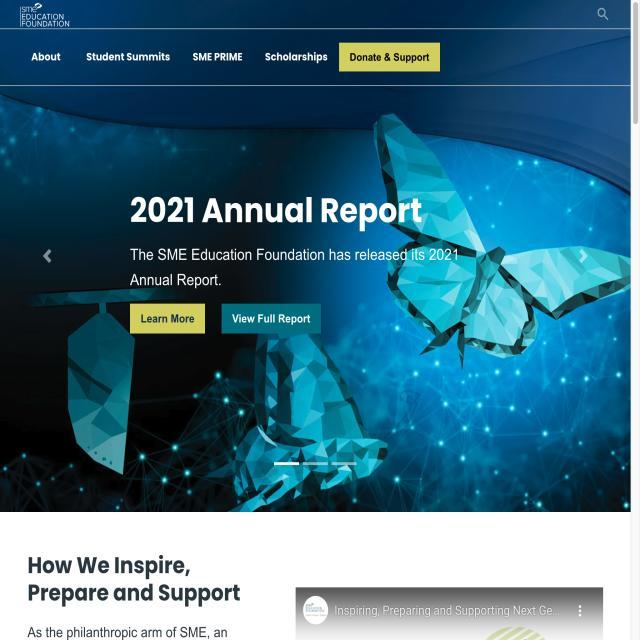button: (220, 302, 324, 338), (338, 41, 441, 73), (128, 302, 208, 337)
navigation bar: (16, 35, 337, 80)
